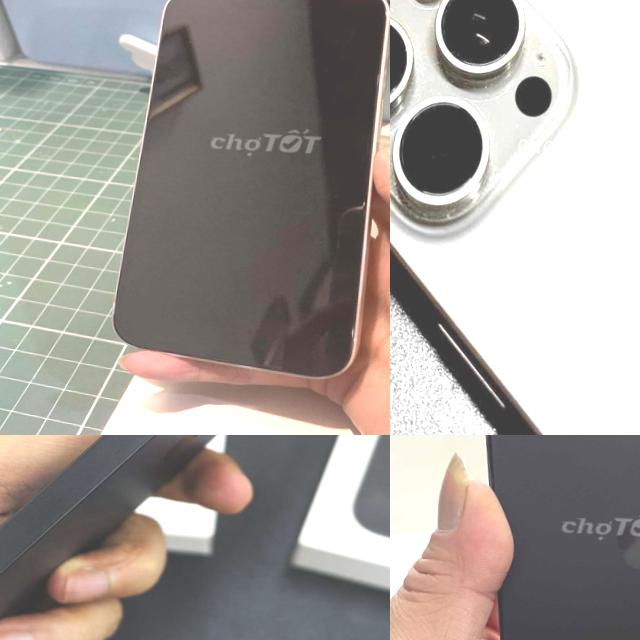gen_12_13: (103, 0, 389, 396)
gen_15: (437, 435, 640, 640)
gen_16: (390, 0, 640, 435), (0, 435, 216, 617)
